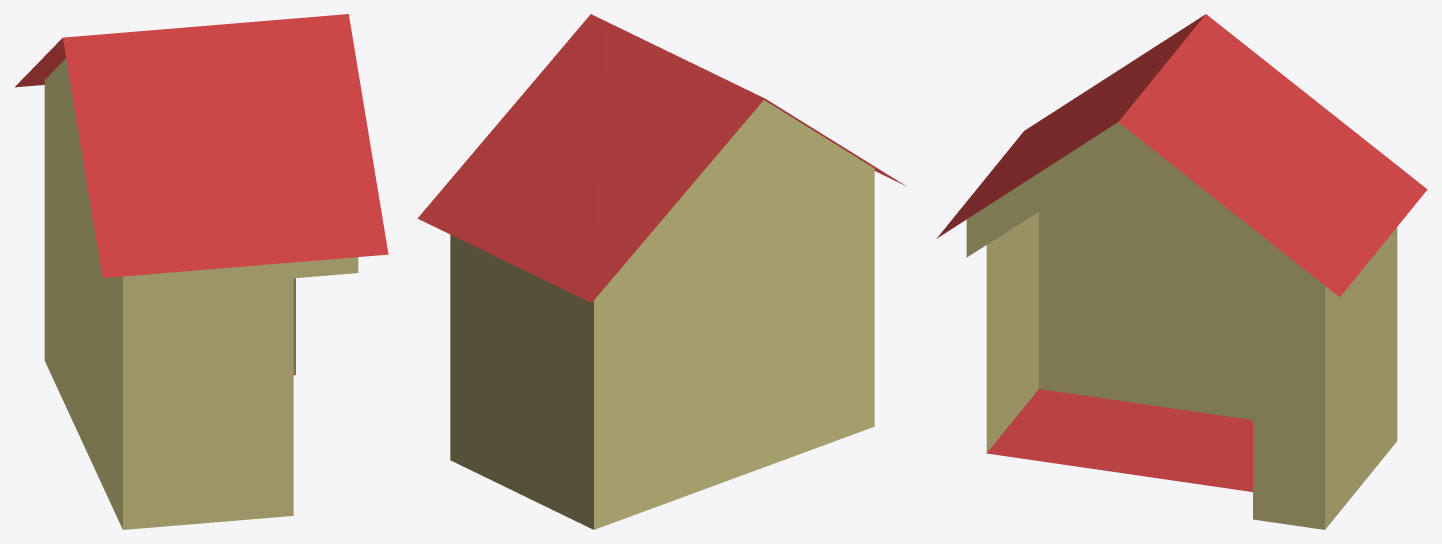
The picture shows the model from 3 angles, left to right: view 1: azimuth 30°, elevation 25°; view 2: azimuth 150°, elevation 25°; view 3: azimuth 270°, elevation 25°; orthographic projection. The views are drawn at different scales.
Size of the model in its own units: 16.54 by 20.61 by 17.99.
